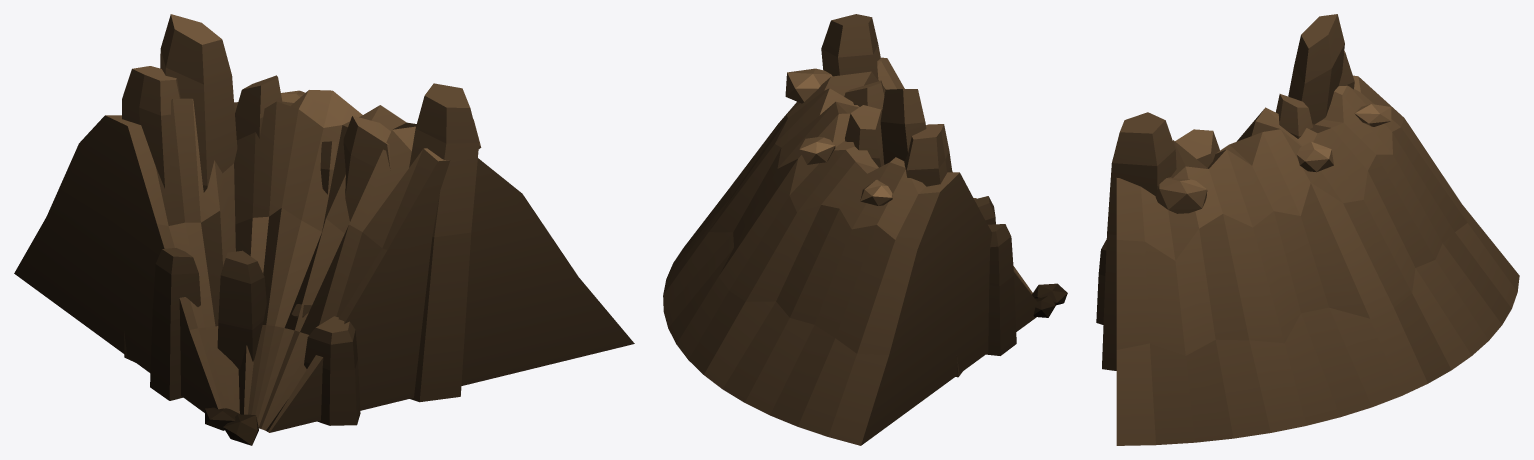
File: cliff-inner.glb
The picture shows the model from 3 angles, left to right: view 1: azimuth 30°, elevation 25°; view 2: azimuth 150°, elevation 25°; view 3: azimuth 270°, elevation 25°; orthographic projection. The views are drawn at different scales.
Visible parts, largest first — view 1: cliff-inner; view 2: cliff-inner; view 3: cliff-inner.
Part boxes in pixels (bbox=[...]): cliff-inner: bbox=[14, 14, 634, 445]; cliff-inner: bbox=[663, 14, 1067, 445]; cliff-inner: bbox=[1096, 14, 1519, 445].
Size of the model in its own units: 3.62 by 2.75 by 3.68.
